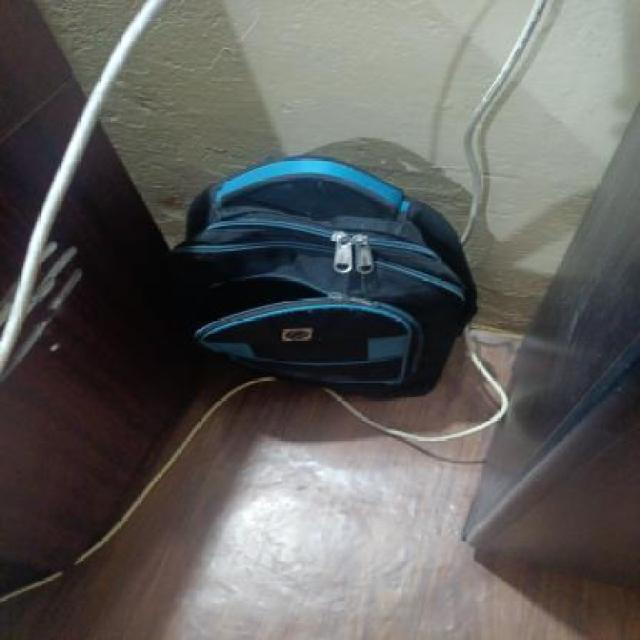backpack: (163, 149, 477, 403)
